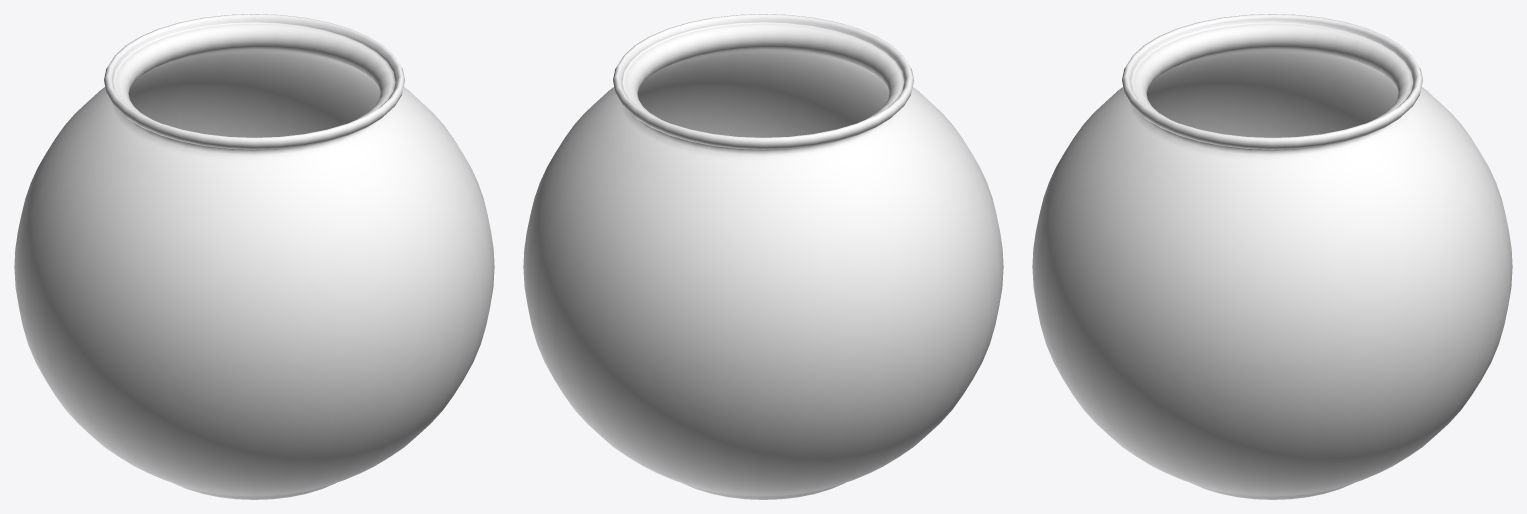
File: peceraTimmy.obj
3 renders of one model, left to right at view 1: azimuth 30°, elevation 25°; view 2: azimuth 150°, elevation 25°; view 3: azimuth 270°, elevation 25°, orthographic.
Visible parts, largest first — view 1: 12985_Fish_bowl_v1_l1.001; view 2: 12985_Fish_bowl_v1_l1.001; view 3: 12985_Fish_bowl_v1_l1.001.
Part boxes in pixels (x1,y1,x2,y2): 12985_Fish_bowl_v1_l1.001: (14,14,494,499); 12985_Fish_bowl_v1_l1.001: (523,14,1003,499); 12985_Fish_bowl_v1_l1.001: (1032,14,1512,499).
Size of the model in its own units: 0.8491 by 0.7468 by 0.8491.
1 material, 1 textured.
